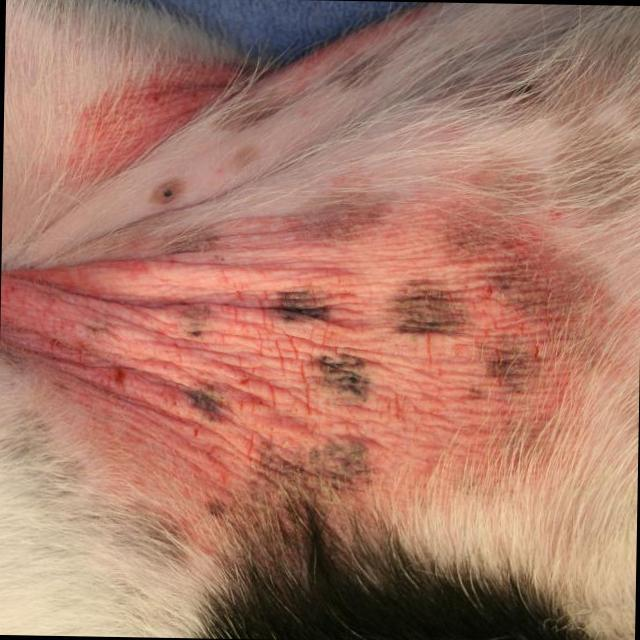allergic dermatitis: (3, 235, 620, 519)
